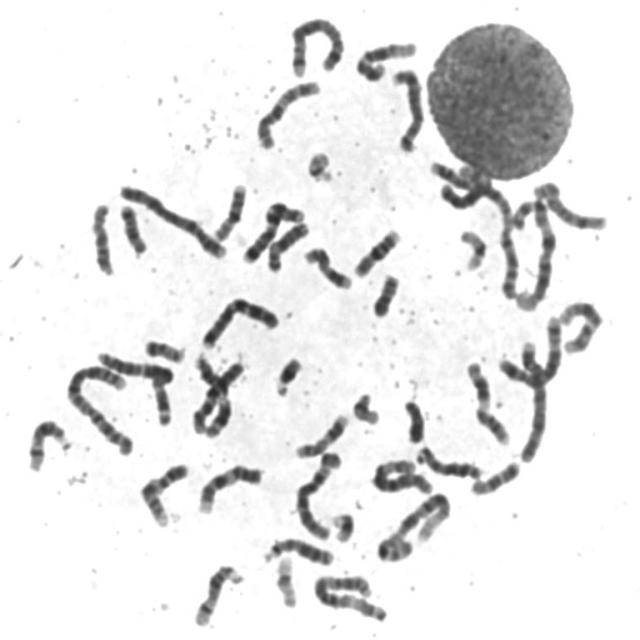A1: (506, 191, 562, 314), (371, 485, 454, 564)
A2: (432, 158, 522, 302), (61, 357, 138, 458)
A3: (91, 344, 176, 428), (308, 567, 392, 625)
B4: (114, 176, 230, 262), (514, 335, 550, 463)
B5: (492, 308, 566, 389), (285, 11, 347, 78)
C10: (251, 73, 324, 152), (187, 354, 246, 436)
C11: (461, 354, 514, 447), (189, 348, 234, 441)
C12: (351, 33, 421, 83), (555, 294, 607, 356)
C6: (290, 445, 347, 541), (368, 452, 437, 496)
C7: (196, 290, 283, 350), (238, 194, 308, 265)
C8: (528, 174, 611, 233), (386, 60, 427, 155)
C9: (193, 457, 266, 515), (134, 456, 192, 529)
D13: (412, 439, 486, 482), (258, 530, 338, 568)
D14: (189, 558, 247, 628), (23, 412, 74, 473)
D15: (262, 216, 312, 274), (85, 195, 117, 278)
E16: (349, 222, 404, 279), (208, 177, 250, 243)
E17: (290, 406, 352, 461), (299, 240, 355, 292)
E18: (467, 454, 522, 498), (114, 197, 151, 257)
F19: (455, 222, 491, 273), (271, 549, 301, 610)
F20: (370, 275, 412, 318), (139, 332, 188, 364)
G21: (269, 349, 306, 399), (327, 504, 358, 544)
G22: (347, 385, 383, 427), (301, 144, 337, 185)
Y: (399, 392, 428, 444)
